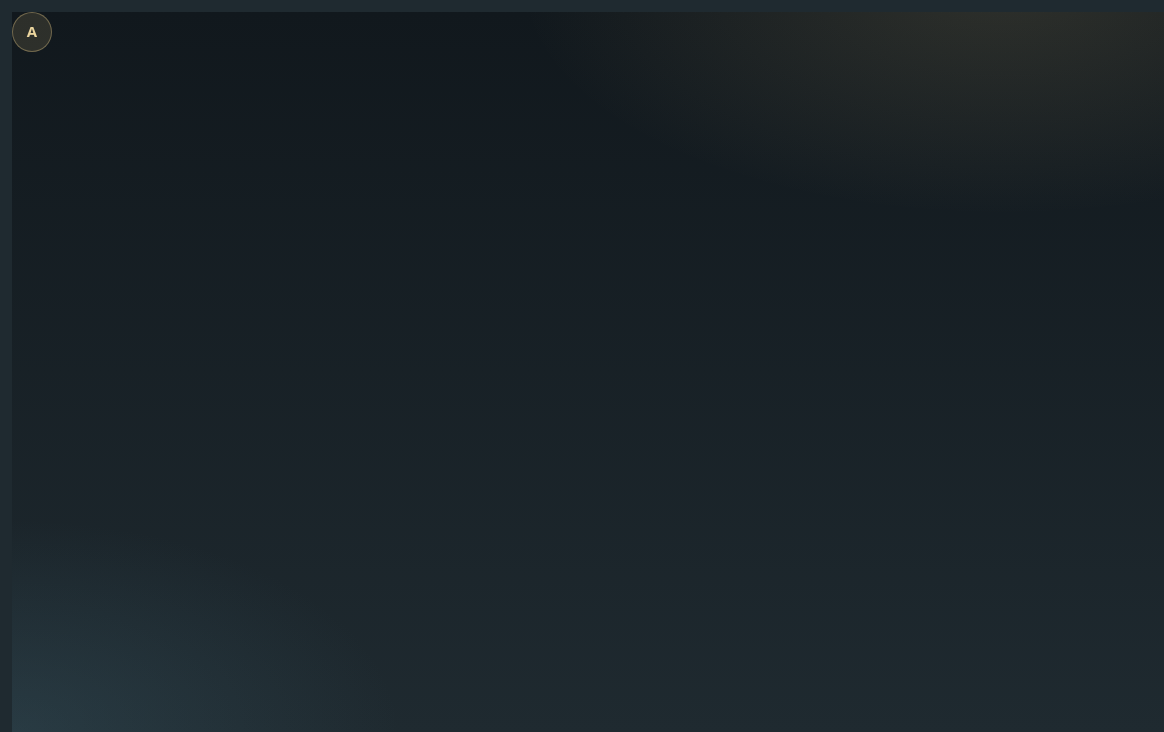
Test: ProfileMenu › opens on hover and closes on Escape
The image size is (1164, 732).
Hover over the element showing "A".
mouse_move(32, 32)  # box [12, 12, 52, 52]
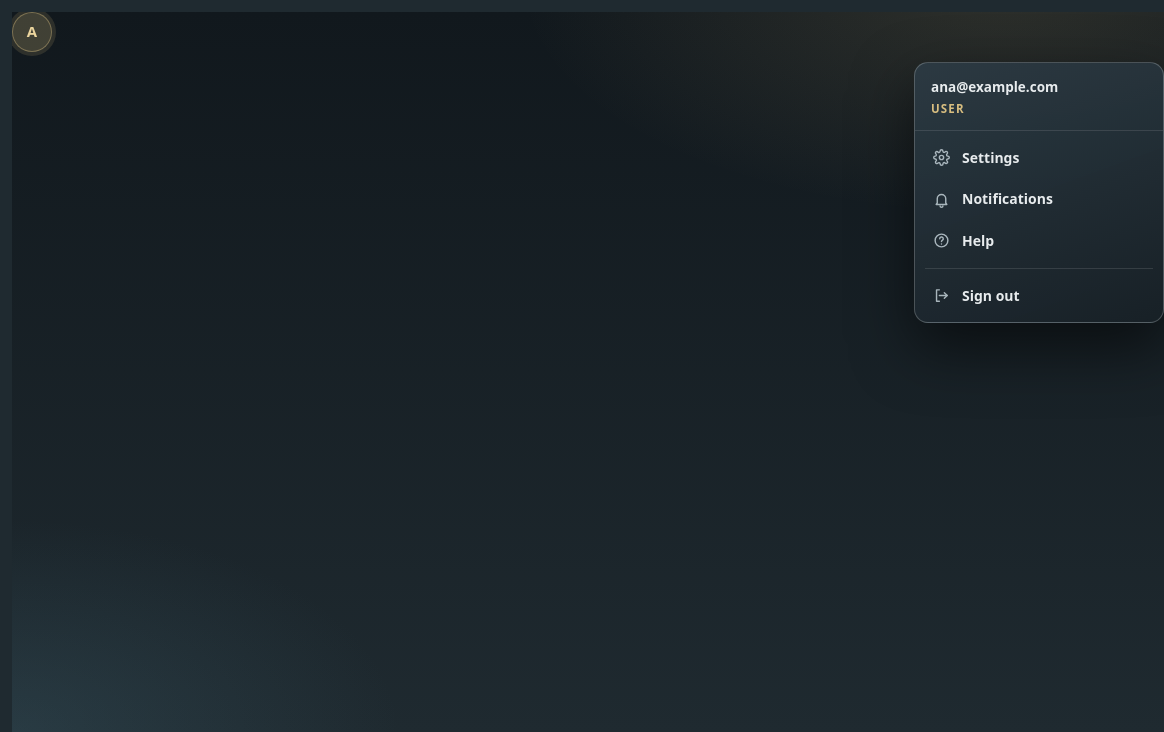
Check: the button named "Account menu" is expanded
Press Escape in the element showing "A ana@example.com User Settings Notifications Help Sign out", box [12, 12, 52, 52]
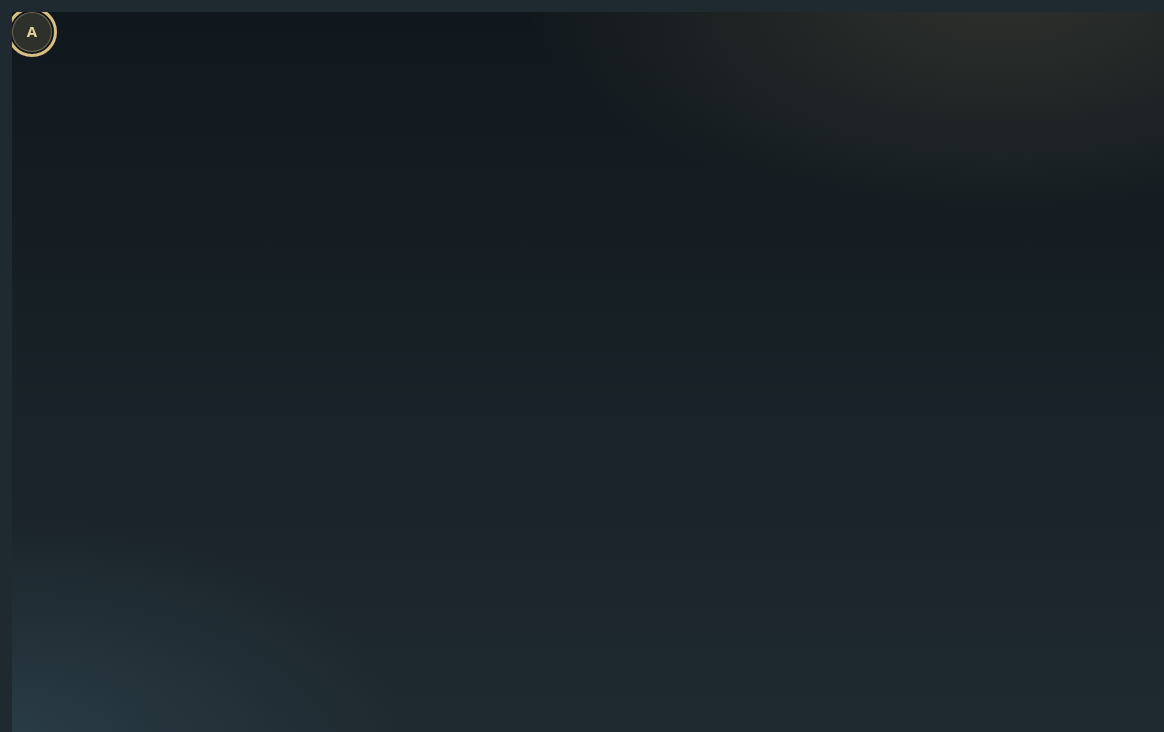
Check: the button named "Account menu" is collapsed, box [12, 12, 52, 52]
